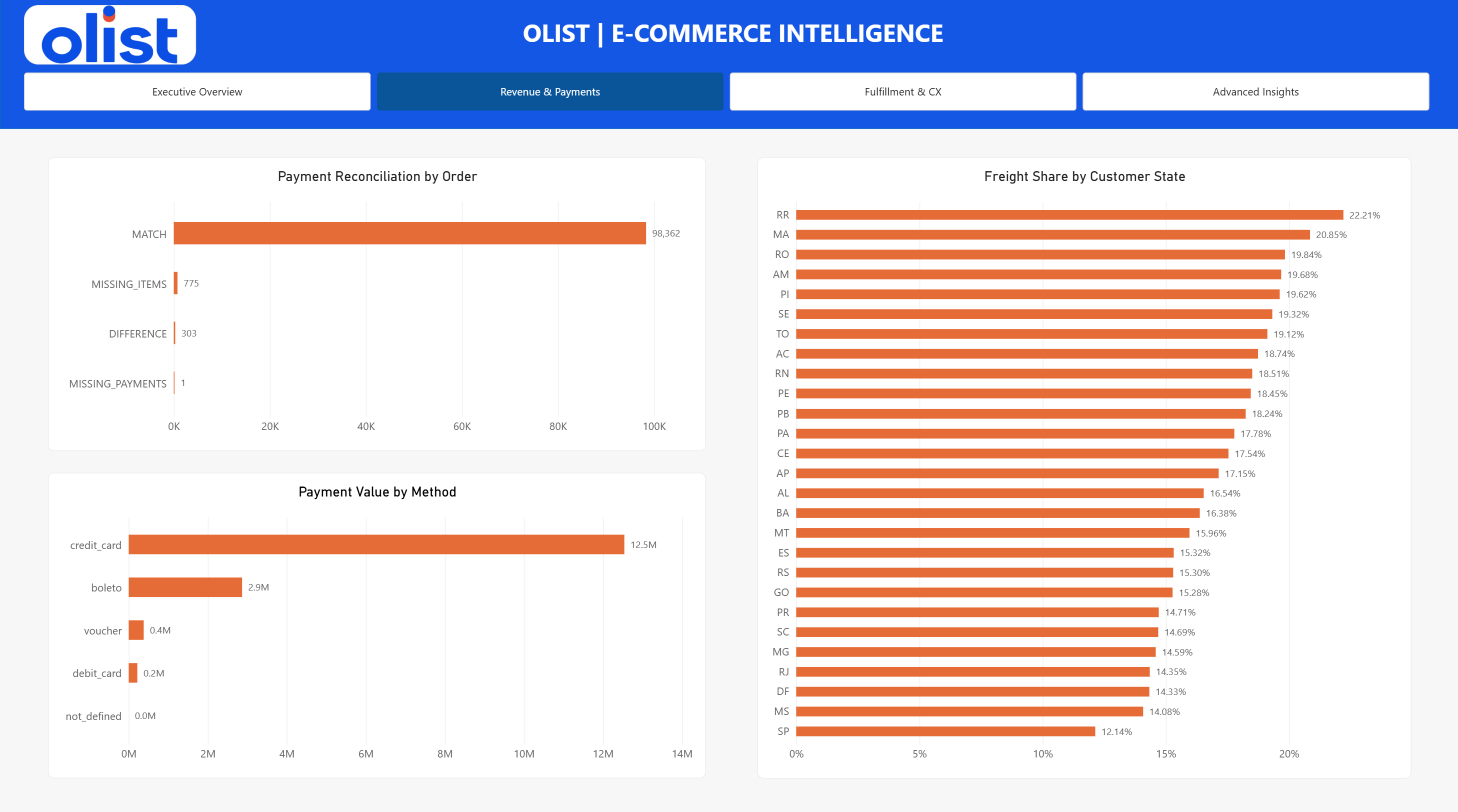

Layout of this report page (visuals, bound fields, positions):
{"tool":"powerbi","page":{"name":"Revenue & Payments","canvas":[1920,1080],"ordinal":1},"visuals":[{"type":"shape","box":[0,0,1919.6,170.2],"z":0},{"type":"pageNavigator","box":[31.8,96.6,1842.8,50.5],"z":1000},{"type":"image","box":[31.8,7.7,225.1,78],"z":2000},{"type":"textbox","box":[0,21.8,1919.7,52],"z":3000},{"type":"clusteredBarChart","title":"Payment Reconciliation by Order","fields":{"Category":["Fact_Order_Overview.reconciliation_status"],"Y":["Fact_Order_Overview.Total Orders"]},"box":[63.3,207.2,861.3,383.7],"z":3001},{"type":"clusteredBarChart","title":"Payment Value by Method","fields":{"Category":["Payment_Method_Summary.payment_method"],"Y":["Sum(Payment_Method_Summary.total_payment_value_brl)"]},"box":[63.3,619.5,861.3,400.1],"z":3002},{"type":"clusteredBarChart","title":"Freight Share by Customer State","fields":{"Category":["Fact_Order_Overview.customer_state"],"Y":["Fact_Order_Overview.Freight Share (%)"]},"box":[992,207.2,856.2,812.4],"z":3003}]}

Visuals, with their boxes in screenshot pixels (x1, y1, x2, y2), scaled from the page's 1920x1080 canvas onto the 1458x812 screenshot:
shape: (0,0,1457,128)
pageNavigator: (24,73,1424,111)
image: (24,6,195,64)
textbox: (0,16,1457,55)
"Payment Reconciliation by Order" clusteredBarChart: (48,156,702,444)
"Payment Value by Method" clusteredBarChart: (48,466,702,767)
"Freight Share by Customer State" clusteredBarChart: (753,156,1403,767)
